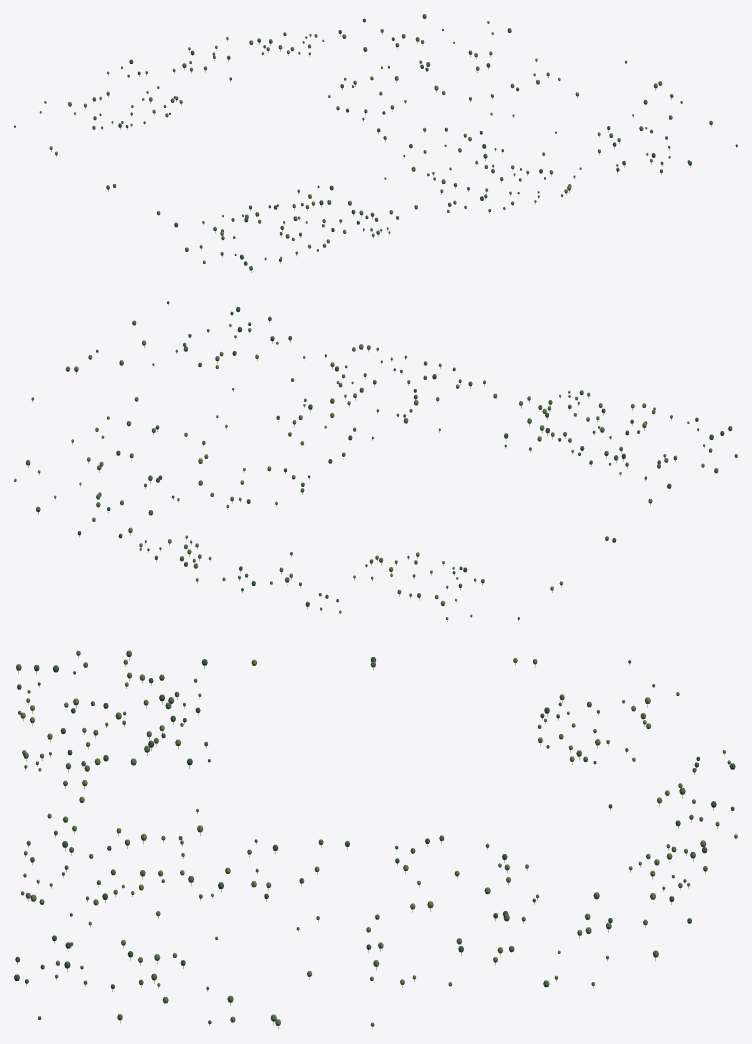
Rendered from context-trees-varied-2026-11-04.glb.
3 views of the same model, one above another, from view 1: azimuth 30°, elevation 25°; view 2: azimuth 150°, elevation 25°; view 3: azimuth 270°, elevation 25° (orthographic). The views are drawn at different scales.
Parts seen in each view (by area): view 1: context-trees-refined; view 2: context-trees-refined; view 3: context-trees-refined.
Boxes of the visible parts, x1=… form: context-trees-refined: x1=14, y1=14, x2=737, y2=272; context-trees-refined: x1=14, y1=301, x2=737, y2=621; context-trees-refined: x1=14, y1=650, x2=737, y2=1029.
Size of the model in its own units: 1146 by 41.72 by 943.
